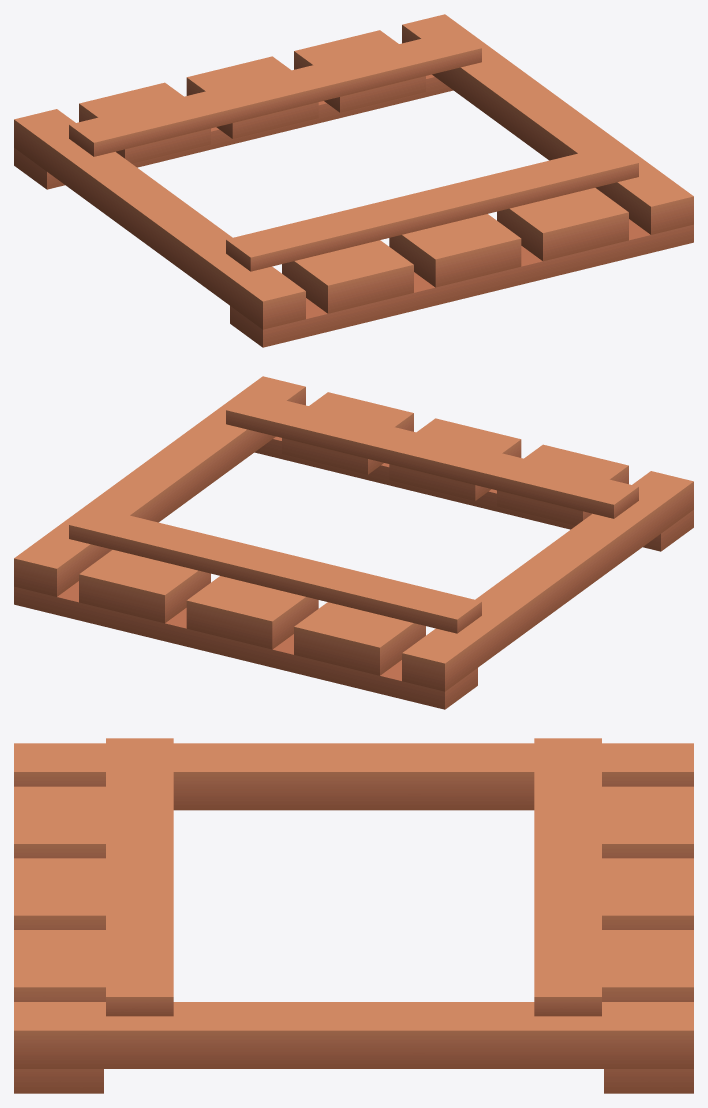
The model's file is floor-hole.glb.
3 views of the same model, one above another, from view 1: azimuth 30°, elevation 25°; view 2: azimuth 150°, elevation 25°; view 3: azimuth 270°, elevation 25° (orthographic). The views are drawn at different scales.
Visible parts, largest first — view 1: floor-hole; view 2: floor-hole; view 3: floor-hole.
Part boxes in pixels (box(x1,y1,x2,y2)): floor-hole: box(14, 14, 693, 347); floor-hole: box(14, 376, 693, 709); floor-hole: box(14, 738, 693, 1093).
Size of the model in its own units: 0.5 by 0.0668 by 0.5.
1 material, 1 textured.
